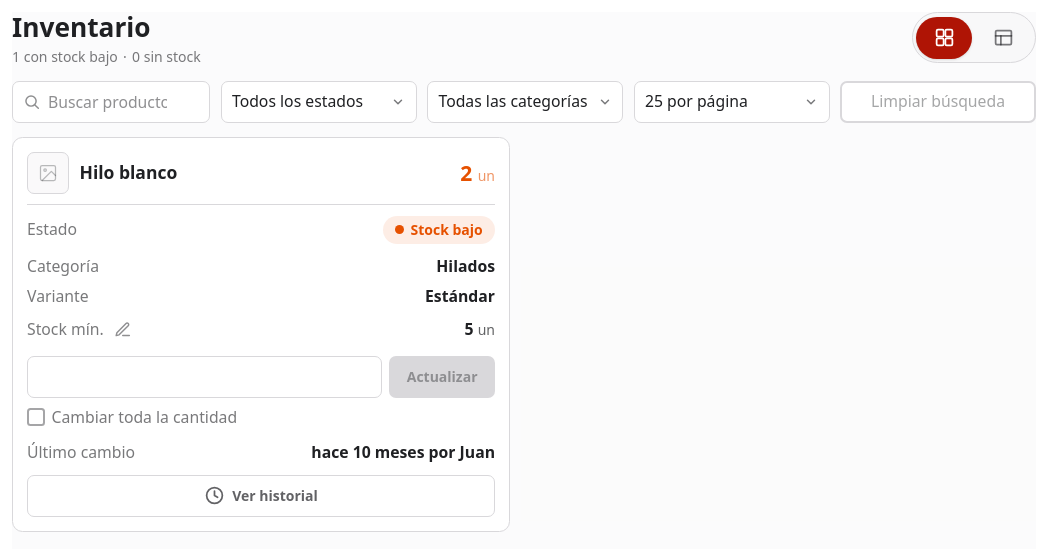
it: InventoryPage › filters by stock status using the dropdown
The width and height of the screenshot is (1048, 549).
Click the button named "Filtrar por estado de stock" at x=318, y=102, box left=220, top=81, right=416, bottom=123
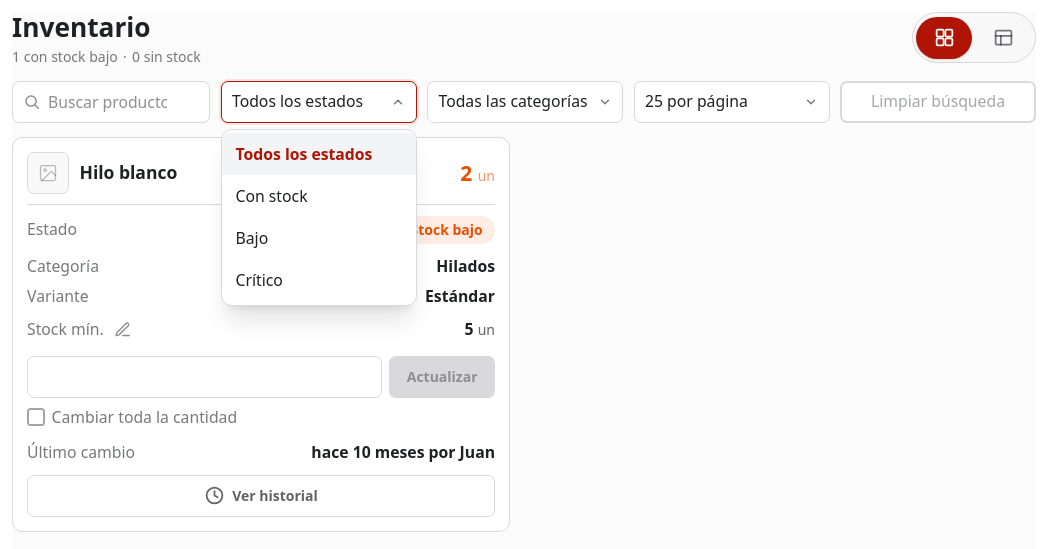
Click the option "Con stock" at x=318, y=196, box left=222, top=175, right=416, bottom=217
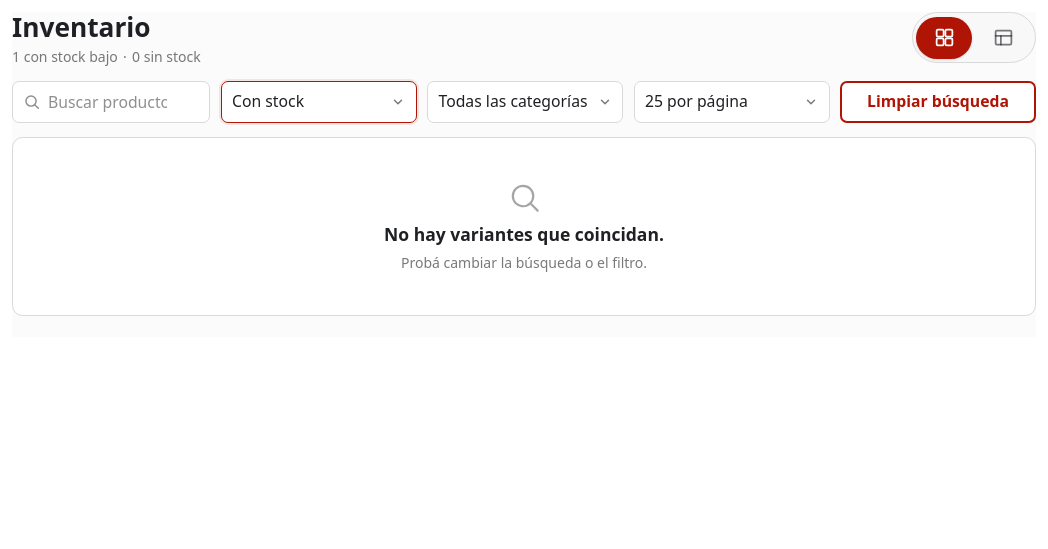
Check: the text "No hay variantes que coincidan." is shown, box left=384, top=222, right=664, bottom=246
